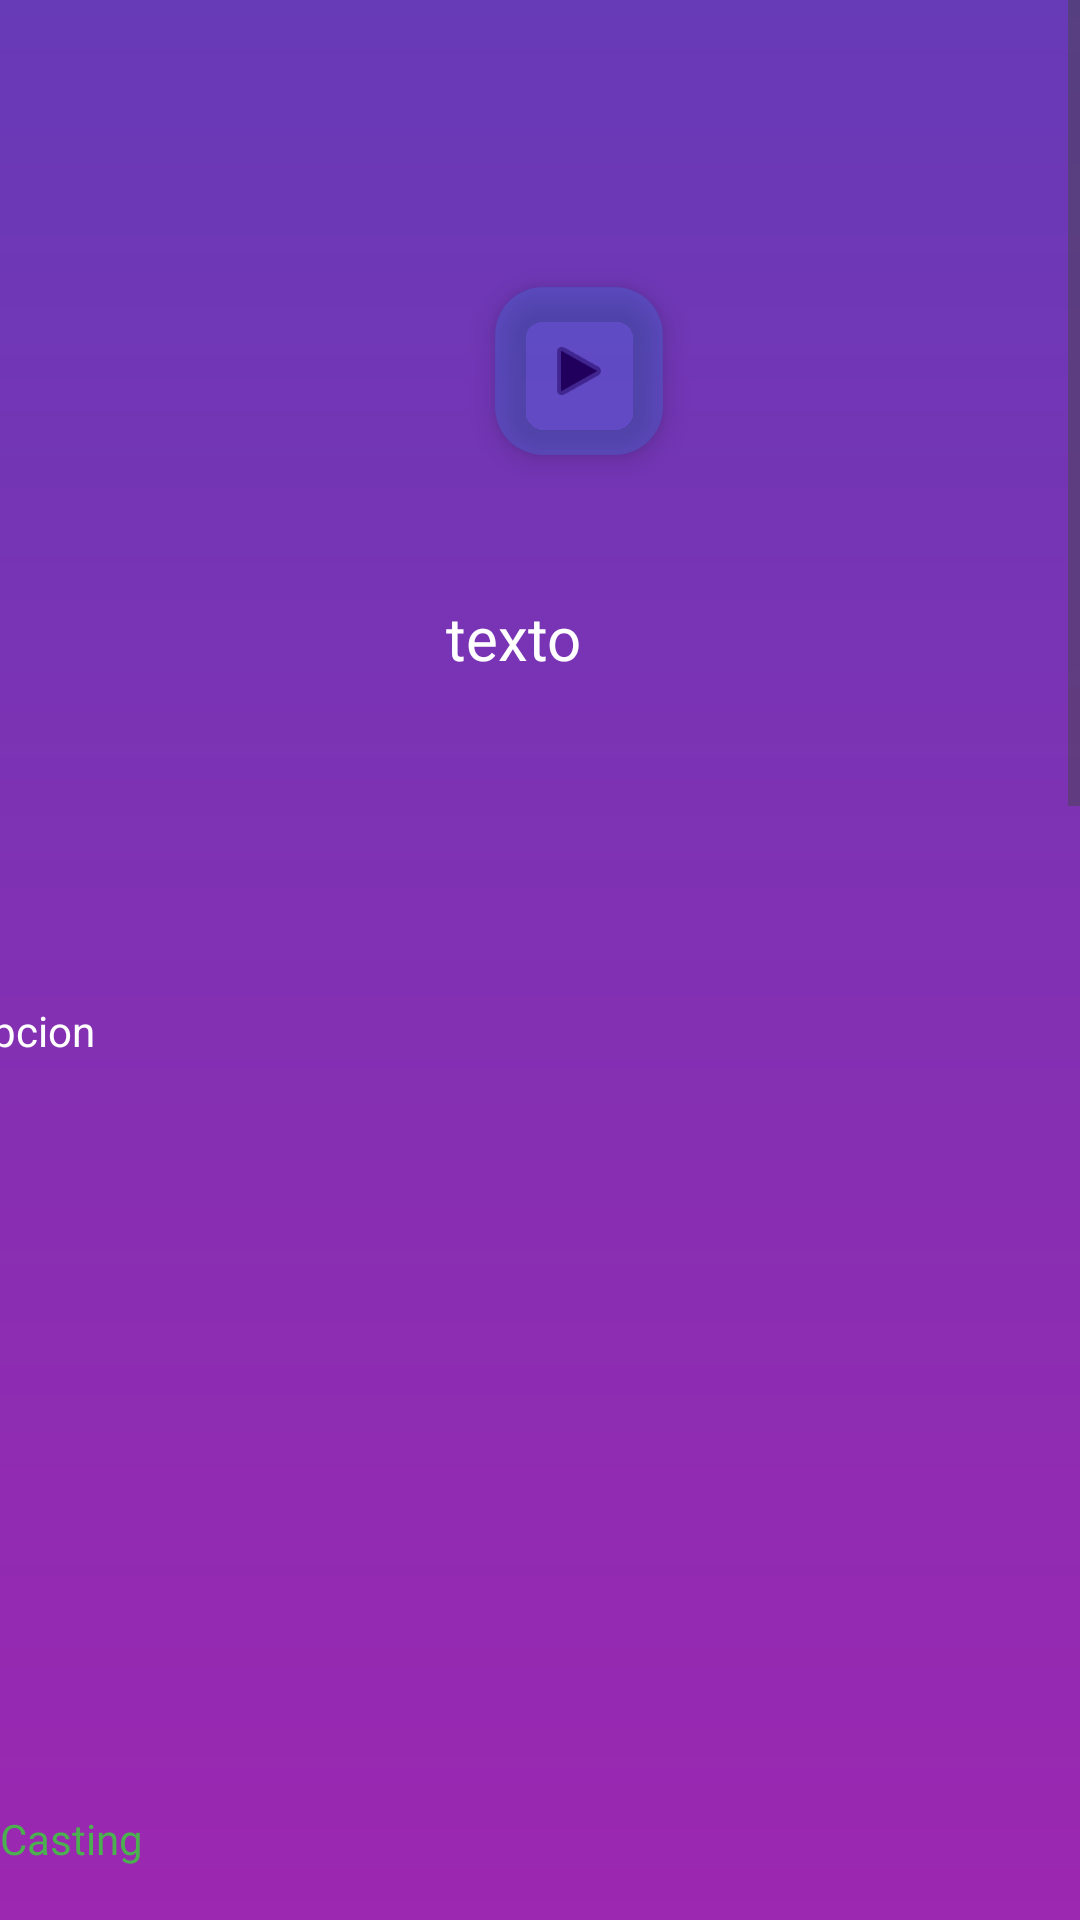

Icons on this 1080×1920 Android screen, each with its box as (x1, y1, x2, y2):
play: (510, 304, 649, 440)
